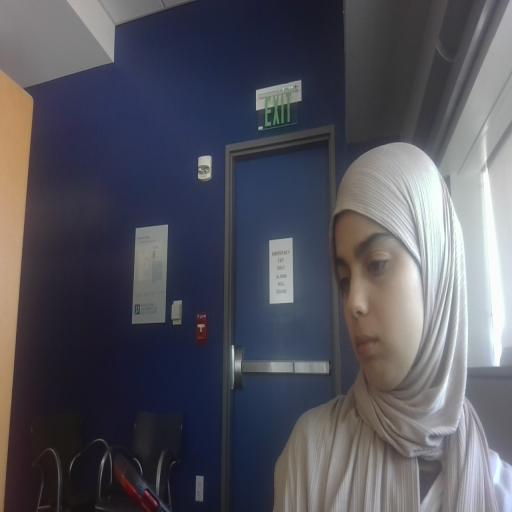phone: (109, 443, 177, 512)
